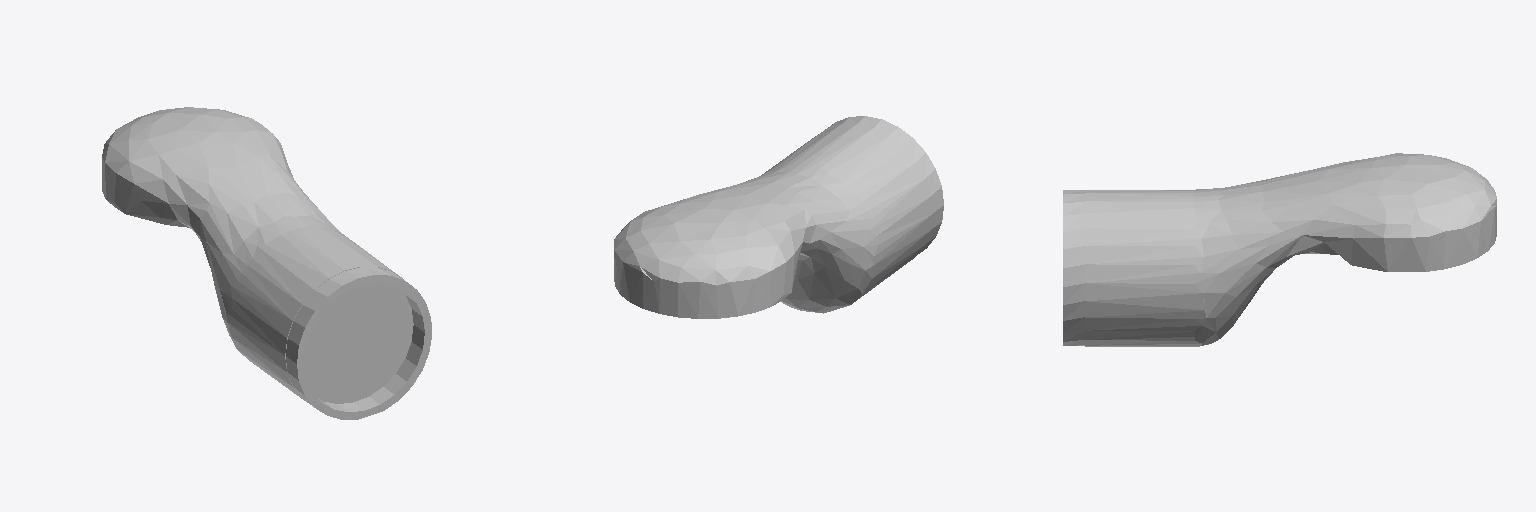
Rendered from dual_rm_75b_description_l_link2_collisions_l_link2_mesh.obj.
3 renders of one model, left to right at view 1: azimuth 30°, elevation 25°; view 2: azimuth 150°, elevation 25°; view 3: azimuth 270°, elevation 25°, orthographic.
Size of the model in its own units: 0.081 by 0.0816 by 0.193.